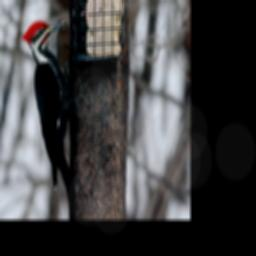Woodpecker: (22, 16, 91, 215)
